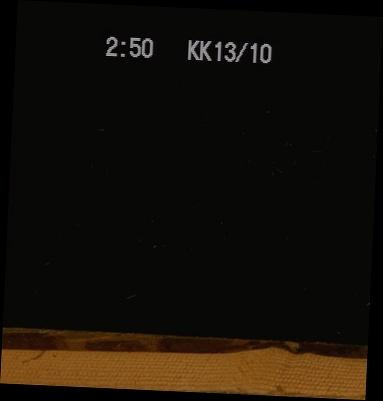wave: (1, 334, 367, 355)
